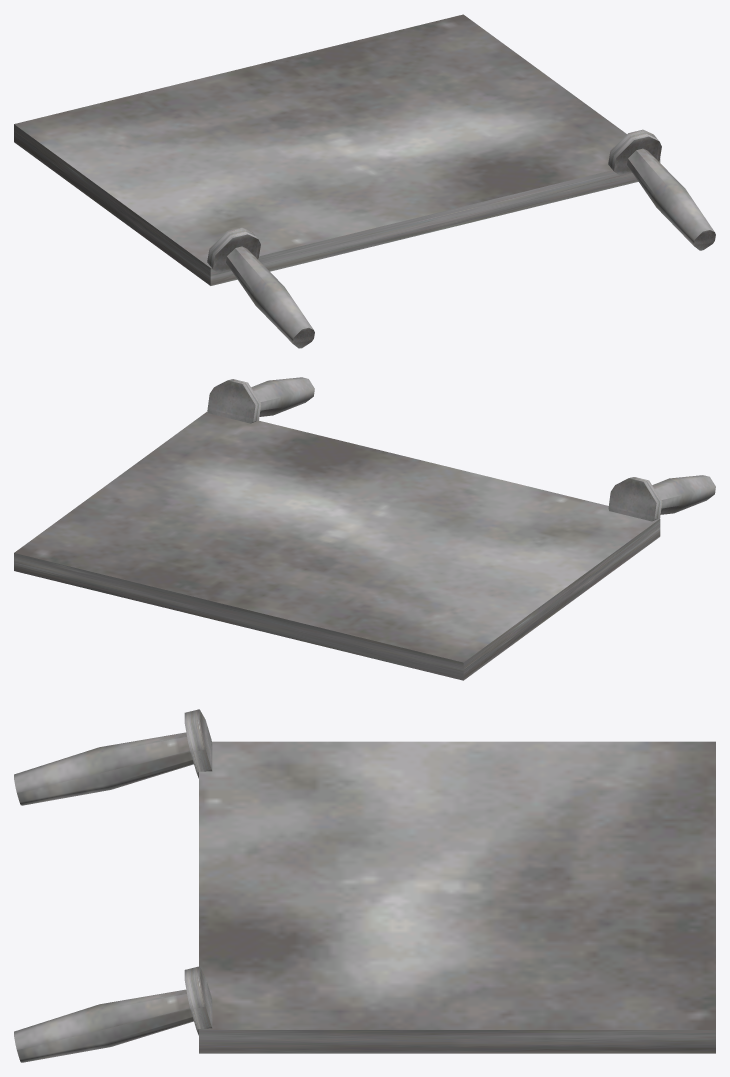
The model's file is hornoInside.obj.
The picture shows the model from 3 angles, top to bottom: view 1: azimuth 30°, elevation 25°; view 2: azimuth 150°, elevation 25°; view 3: azimuth 270°, elevation 25°; orthographic projection. The views are drawn at different scales.
Parts seen in each view (by area): view 1: polySurface33; view 2: polySurface33; view 3: polySurface33.
Boxes of the visible parts, x1,y1,x2,y2 form: polySurface33: [14, 14, 715, 348]; polySurface33: [14, 377, 715, 680]; polySurface33: [14, 709, 715, 1062].
Size of the model in its own units: 0.7705 by 0.1142 by 0.7931.
Materials: 1 (1 with a texture image).
